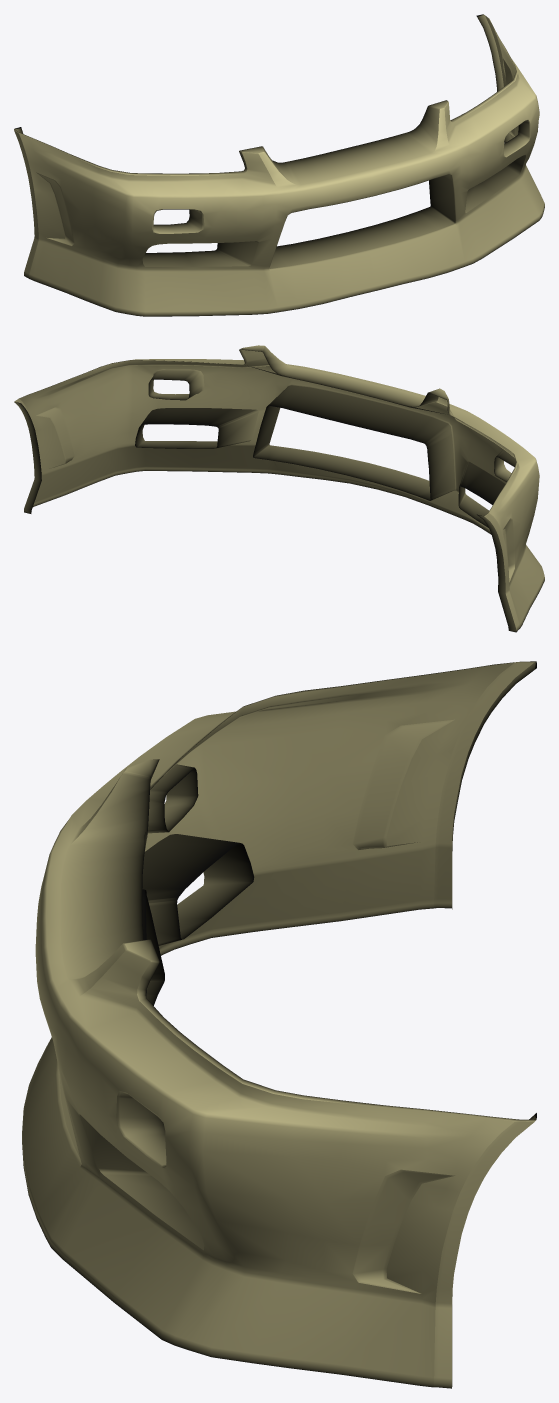
The model's file is R34_FB03_Duco.fbx.
3 renders of one model, top to bottom at view 1: azimuth 30°, elevation 25°; view 2: azimuth 150°, elevation 25°; view 3: azimuth 270°, elevation 25°, orthographic. The views are drawn at different scales.
Visible parts, largest first — view 1: R34_FB03_Duco; view 2: R34_FB03_Duco; view 3: R34_FB03_Duco.
Boxes of the visible parts, x1,y1,x2,y2 form: R34_FB03_Duco: [14, 14, 544, 316]; R34_FB03_Duco: [14, 345, 544, 632]; R34_FB03_Duco: [22, 661, 536, 1388].
Bounding box in the file's own units: 184 × 52.04 × 83.52.
